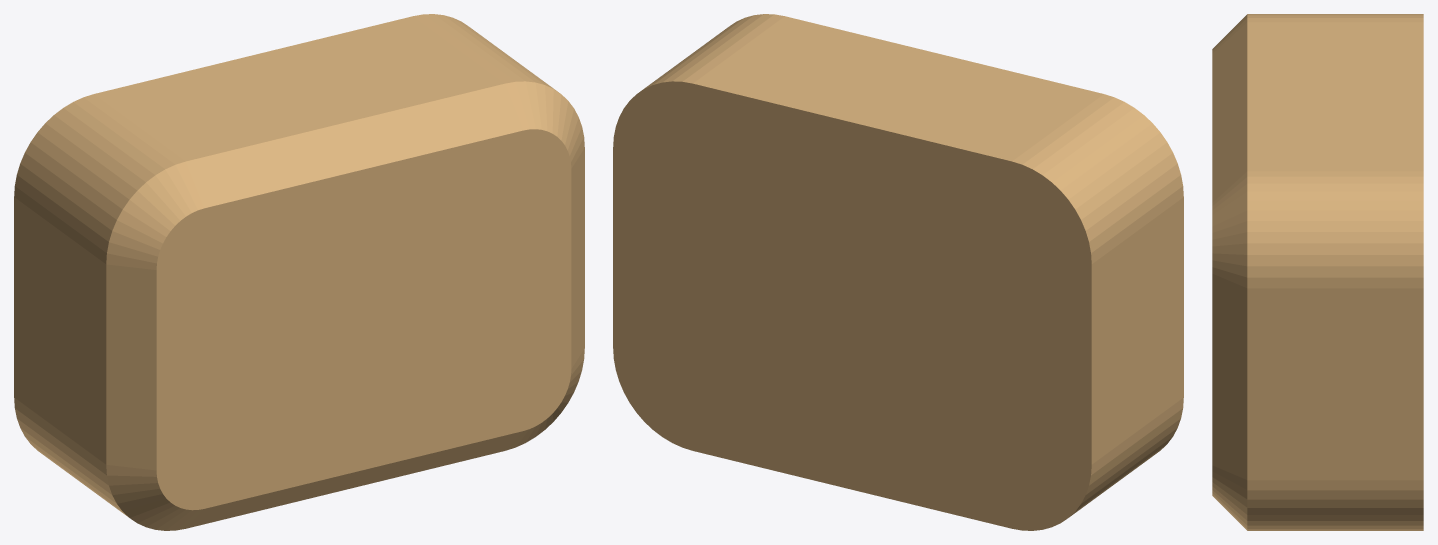
Rendered from chamfer_prism_demo.glb.
The picture shows the model from 3 angles, left to right: view 1: azimuth 30°, elevation 25°; view 2: azimuth 150°, elevation 25°; view 3: azimuth 270°, elevation 25°; orthographic projection. The views are drawn at different scales.
Visible parts, largest first — view 1: chamfered_prism; view 2: chamfered_prism; view 3: chamfered_prism.
Part boxes in pixels (x1=…): chamfered_prism: x1=14, y1=14, x2=584, y2=530; chamfered_prism: x1=613, y1=14, x2=1183, y2=530; chamfered_prism: x1=1212, y1=14, x2=1423, y2=530.
Bounding box in the file's own units: 30 × 22 × 12.
